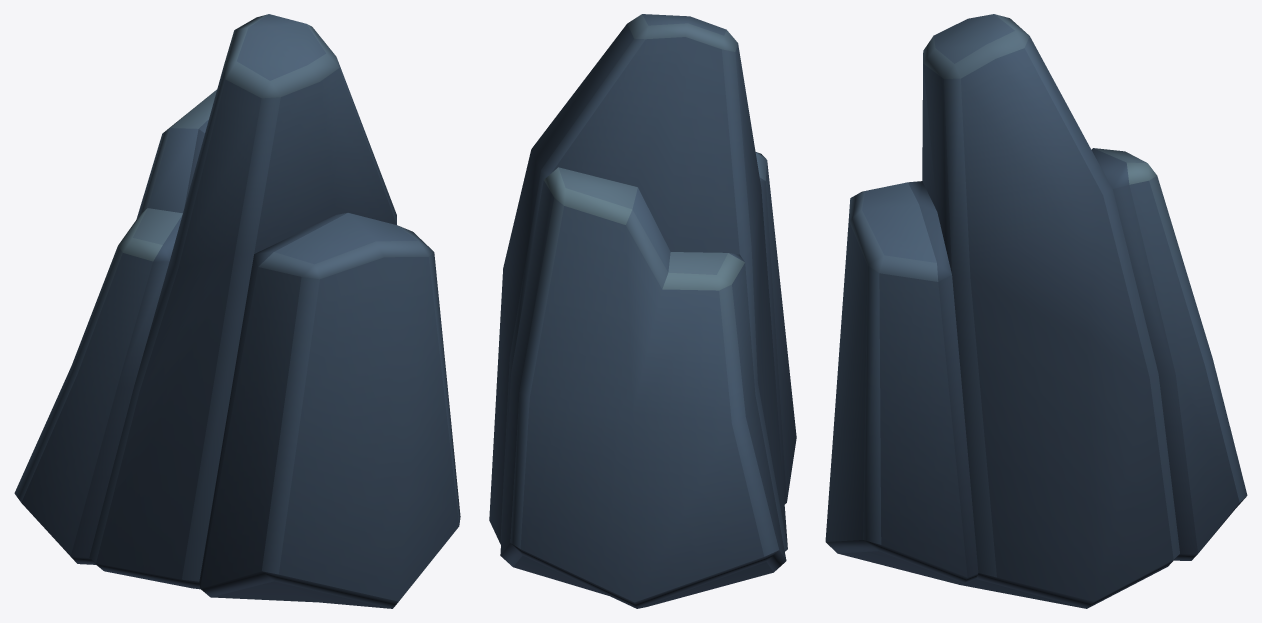
The model's file is rock_012.fbx.
3 views of the same model, side by side, from view 1: azimuth 30°, elevation 25°; view 2: azimuth 150°, elevation 25°; view 3: azimuth 270°, elevation 25° (orthographic). The views are drawn at different scales.
Visible parts, largest first — view 1: rock_012; view 2: rock_012; view 3: rock_012.
Part boxes in pixels (<box>): rock_012: <box>14,14,460,608</box>; rock_012: <box>489,14,796,608</box>; rock_012: <box>825,14,1247,608</box>.
Size of the model in its own units: 171 by 289 by 202.
1 material, 1 textured.
